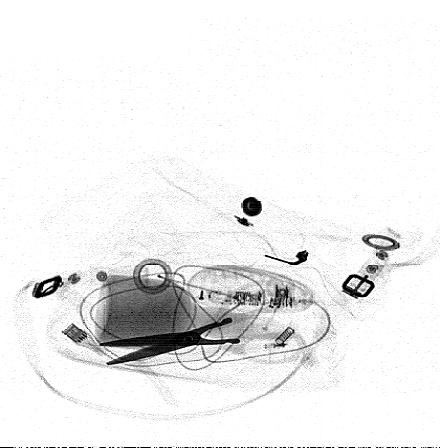Scissors: (96, 280, 319, 368)
